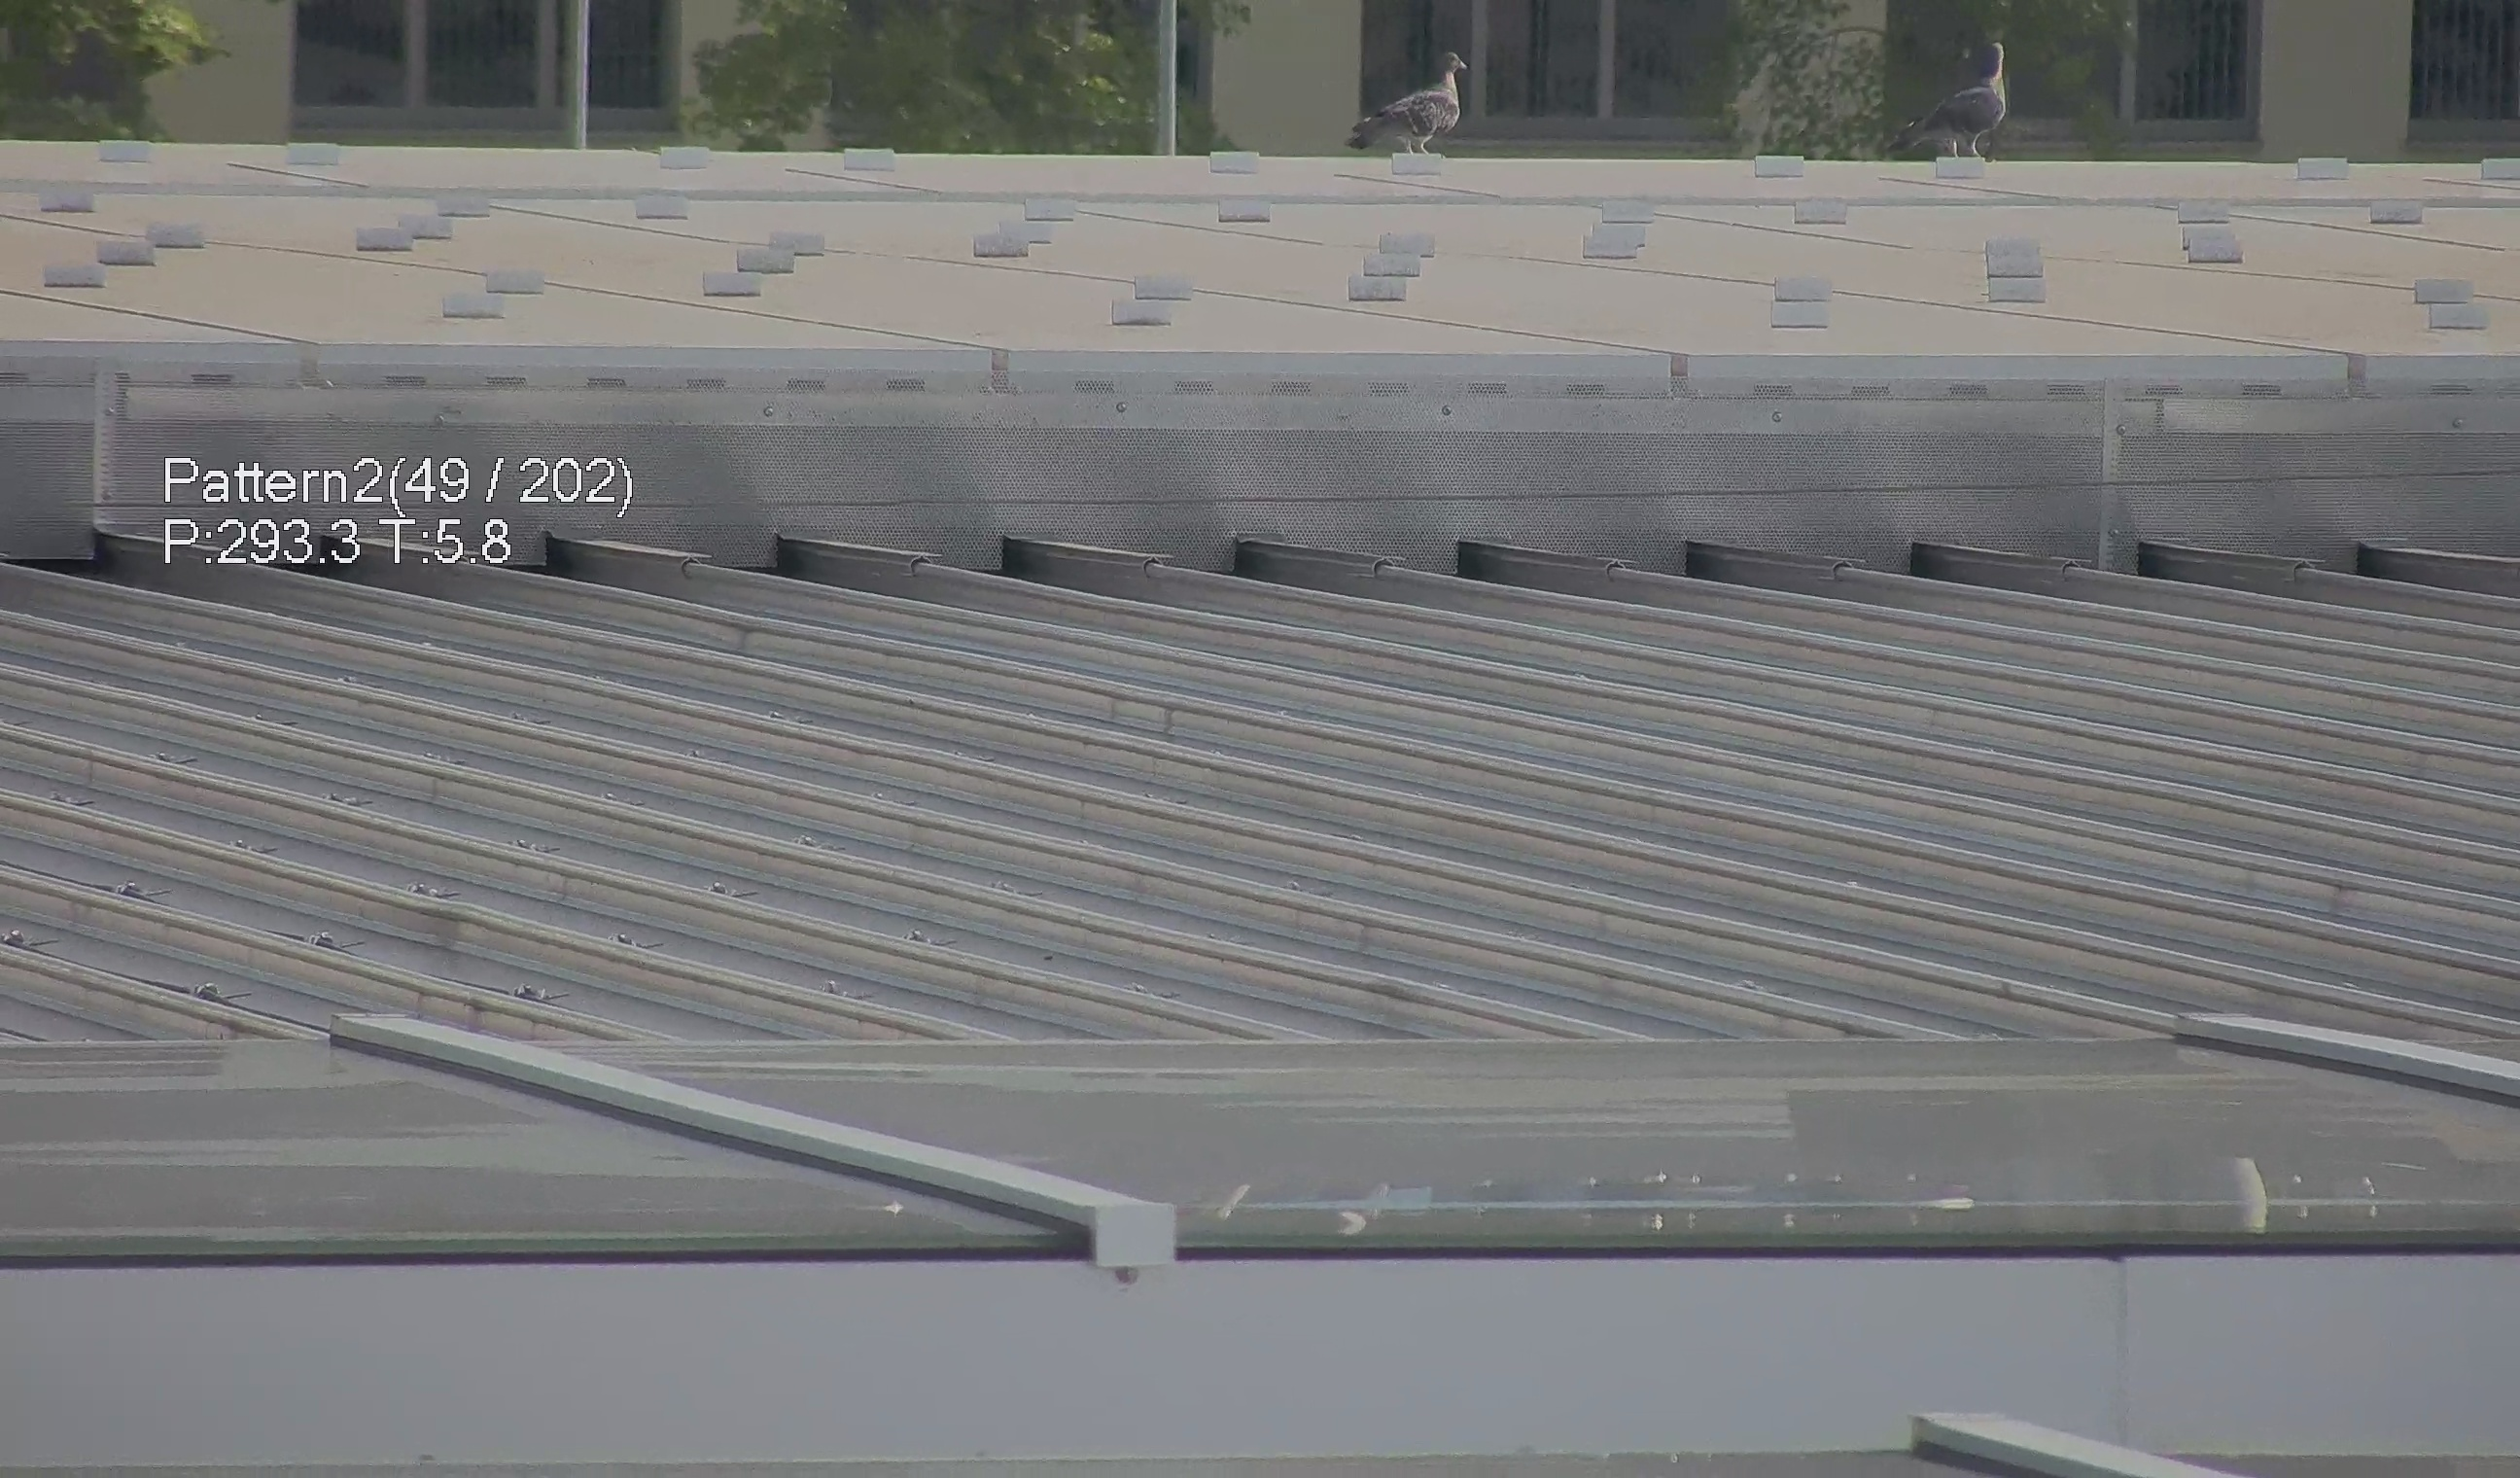Pigeon: (1887, 30, 2028, 162), (1338, 40, 1479, 167)
